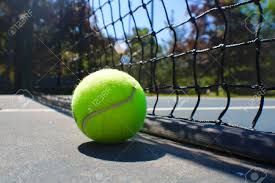tennis_ball: (71, 66, 148, 146)
